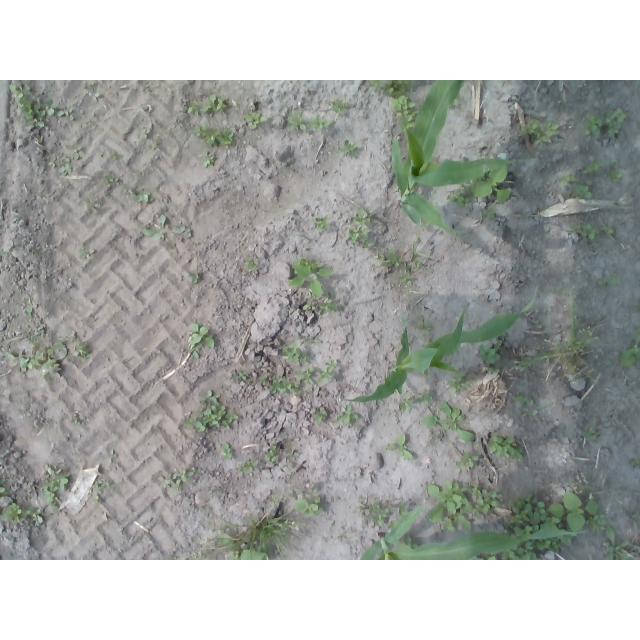Maize: (339, 288, 538, 404), (388, 81, 516, 240), (360, 504, 588, 561)
Weeds: (194, 499, 299, 558), (504, 493, 573, 560), (545, 491, 607, 536), (427, 480, 474, 533), (4, 342, 67, 380), (182, 390, 238, 432), (421, 401, 476, 443), (287, 257, 333, 299), (466, 164, 512, 205), (8, 83, 45, 129), (140, 206, 193, 237), (219, 532, 270, 560), (582, 108, 626, 140), (40, 463, 68, 513), (358, 499, 395, 529), (192, 124, 237, 148), (601, 524, 631, 560), (188, 323, 217, 360), (521, 118, 560, 145), (348, 209, 373, 250), (473, 483, 503, 517), (486, 434, 525, 460), (0, 502, 44, 525), (391, 95, 418, 131), (283, 337, 319, 363), (301, 292, 340, 316), (294, 486, 324, 517), (369, 80, 416, 97), (619, 329, 640, 367), (163, 469, 197, 492), (387, 433, 414, 461), (46, 97, 75, 120), (405, 243, 428, 270), (570, 221, 598, 243), (271, 375, 302, 394), (373, 246, 401, 267), (45, 155, 71, 177), (412, 312, 435, 336), (447, 371, 469, 395), (479, 340, 501, 364), (316, 360, 337, 384), (561, 185, 594, 200), (201, 95, 227, 114), (337, 404, 359, 426), (448, 189, 473, 208), (605, 160, 623, 184), (336, 139, 359, 157), (244, 112, 268, 129), (130, 186, 155, 202), (308, 113, 330, 131), (456, 451, 478, 469), (287, 112, 306, 131), (295, 367, 314, 386), (65, 142, 85, 160), (398, 534, 419, 551), (84, 81, 100, 103), (73, 340, 92, 358), (597, 273, 619, 287), (398, 272, 416, 289), (557, 168, 576, 184), (330, 98, 347, 115), (314, 216, 331, 233), (25, 329, 44, 344), (399, 395, 414, 414), (238, 459, 258, 473), (22, 296, 35, 317), (582, 162, 603, 175), (184, 270, 200, 287), (416, 388, 433, 404), (473, 550, 499, 560), (512, 394, 532, 407), (221, 442, 234, 461), (201, 153, 216, 169), (85, 198, 99, 215), (92, 477, 109, 491), (264, 445, 277, 463), (1, 479, 12, 500), (580, 427, 596, 441), (396, 501, 409, 518), (246, 256, 259, 272), (314, 409, 327, 423), (483, 206, 496, 220), (187, 101, 200, 115), (231, 371, 249, 381), (602, 226, 615, 239), (593, 360, 613, 368), (103, 172, 114, 185), (108, 449, 117, 464), (110, 151, 122, 162), (141, 128, 151, 140), (630, 458, 640, 470), (449, 96, 460, 106), (79, 249, 89, 260), (288, 448, 297, 460), (486, 366, 499, 374), (91, 496, 102, 505), (258, 374, 268, 383), (1, 250, 10, 258), (72, 419, 83, 425), (151, 142, 158, 150), (272, 496, 278, 504), (173, 556, 183, 560)
